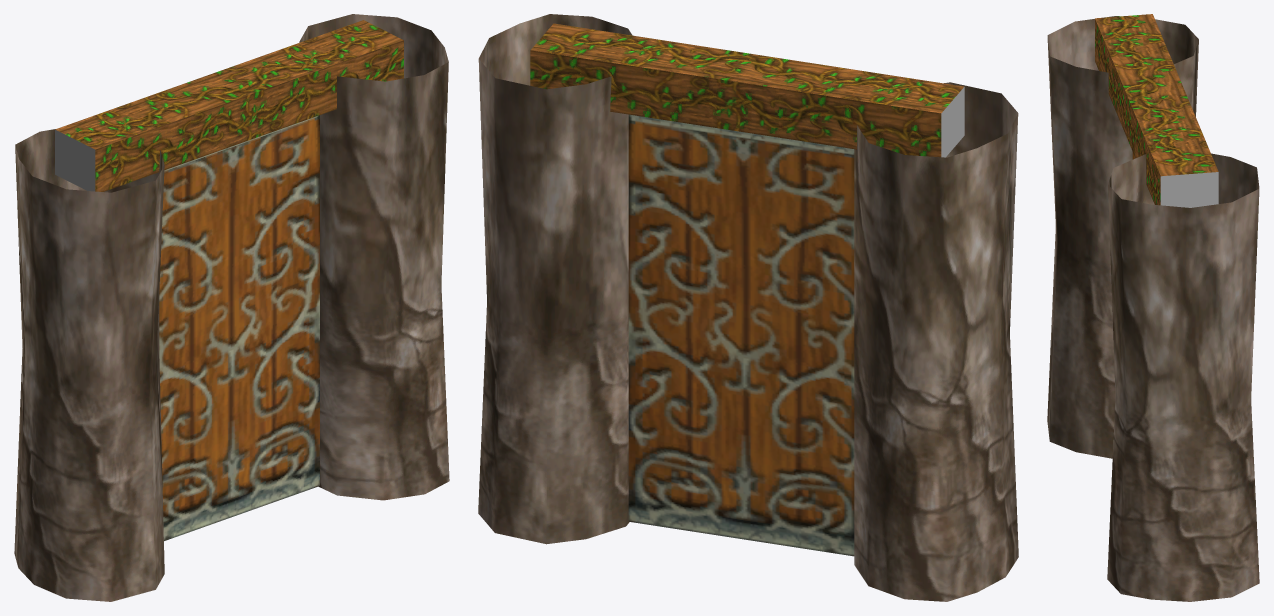
Rendered from EKH_GROTTO_PS_GR_SPI_DOOR_3__GX.obj.
3 renders of one model, left to right at view 1: azimuth 30°, elevation 25°; view 2: azimuth 150°, elevation 25°; view 3: azimuth 270°, elevation 25°, orthographic. The views are drawn at different scales.
Parts seen in each view (by area): view 1: _Spi_Door_3__GX; view 2: _Spi_Door_3__GX; view 3: _Spi_Door_3__GX.
Part boxes in pixels (<box>): _Spi_Door_3__GX: <box>14,14,449,601</box>; _Spi_Door_3__GX: <box>478,14,1018,601</box>; _Spi_Door_3__GX: <box>1047,14,1259,601</box>.
Size of the model in its own units: 267 by 251 by 119.
